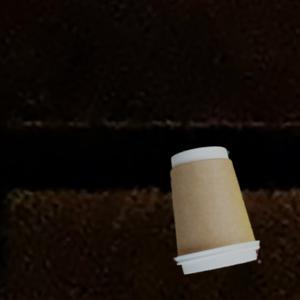cup: (170, 144, 262, 277)
